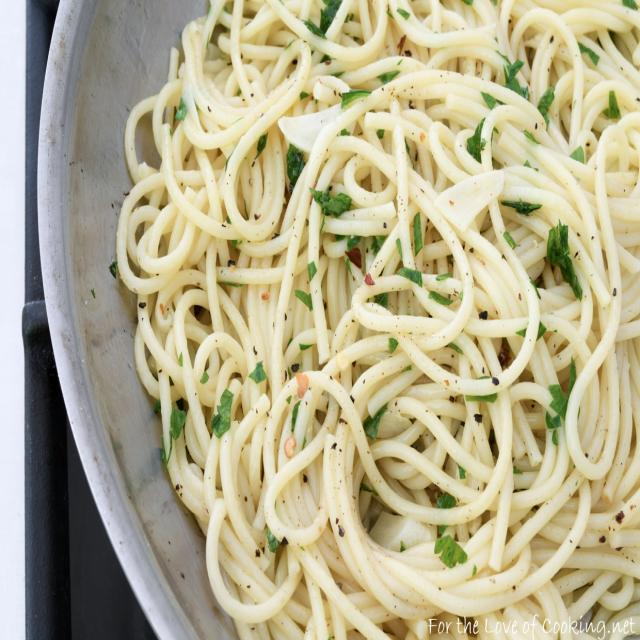Oil pasta: (116, 3, 640, 631)
